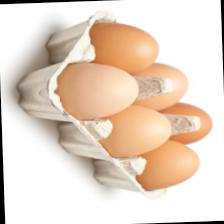egg: (27, 60, 138, 122), (65, 104, 172, 160), (64, 20, 160, 76), (106, 139, 200, 192)
